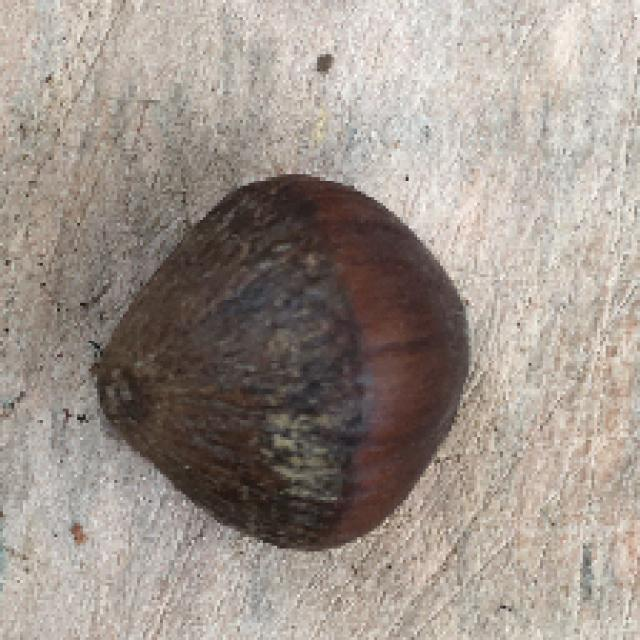damagedHazelnut: (88, 168, 475, 564)
